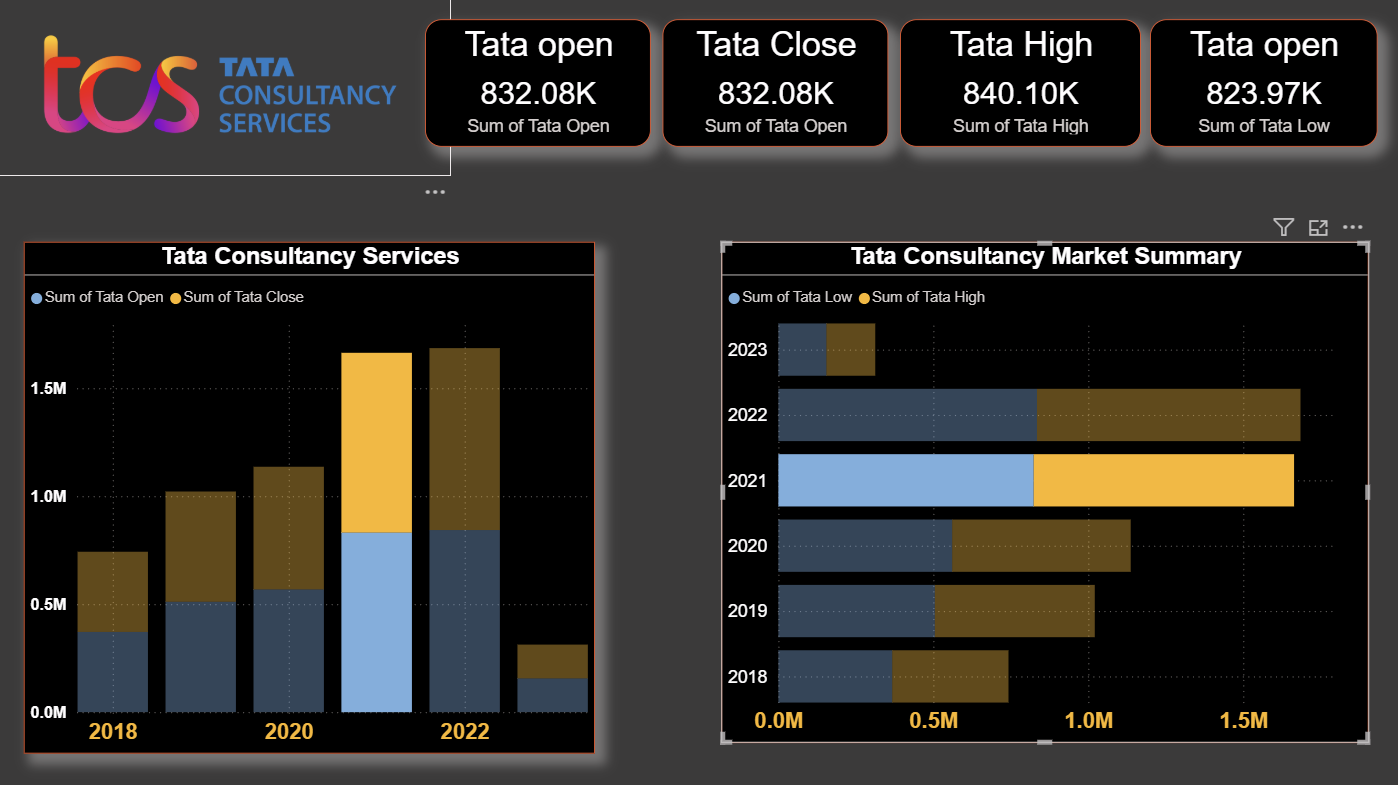

This screenshot's page, from the dashboard's own definition file:
{"tool":"powerbi","page":{"name":"TCS","canvas":[1280,720],"ordinal":0},"visuals":[{"type":"image","box":[0,0,416.7,164.9],"z":0},{"type":"card","title":"Tata open","fields":{"Values":["Sum(TCS NS.Tata Open)"]},"box":[392.9,23.7,204.4,115.2],"z":1000},{"type":"card","title":"Tata Close","fields":{"Values":["Sum(TCS NS.Tata Open)"]},"box":[607.5,23.7,204.4,115.2],"z":2000},{"type":"card","title":"Tata High","fields":{"Values":["Sum(TCS NS.Tata High)"]},"box":[822,23.7,217.9,115.2],"z":3000},{"type":"card","title":"Tata open","fields":{"Values":["Sum(TCS NS.Tata Low)"]},"box":[1047.9,23.7,205.5,115.2],"z":4000},{"type":"columnChart","title":" Tata Consultancy Services","fields":{"Category":["TCS NS.Year"],"Y":["Sum(TCS NS.Tata Open)","Sum(TCS NS.Tata Close)"]},"box":[30.2,225,516,462.4],"z":5000},{"type":"barChart","title":" Tata Consultancy Market Summary","fields":{"Y":["Sum(TCS NS.Tata Low)","Sum(TCS NS.Tata High)"],"Category":["TCS NS.Year"]},"box":[660.6,224.7,584.9,452.8],"z":6000}]}

Visuals, with their boxes in screenshot pixels (x1, y1, x2, y2), scaled from the page's 1280x720 canvas onto the 1398x785 screenshot:
image: [0, 0, 455, 180]
"Tata open" card: [429, 26, 652, 151]
"Tata Close" card: [664, 26, 887, 151]
"Tata High" card: [898, 26, 1136, 151]
"Tata open" card: [1145, 26, 1369, 151]
" Tata Consultancy Services" columnChart: [33, 245, 597, 749]
" Tata Consultancy Market Summary" barChart: [721, 245, 1360, 739]
